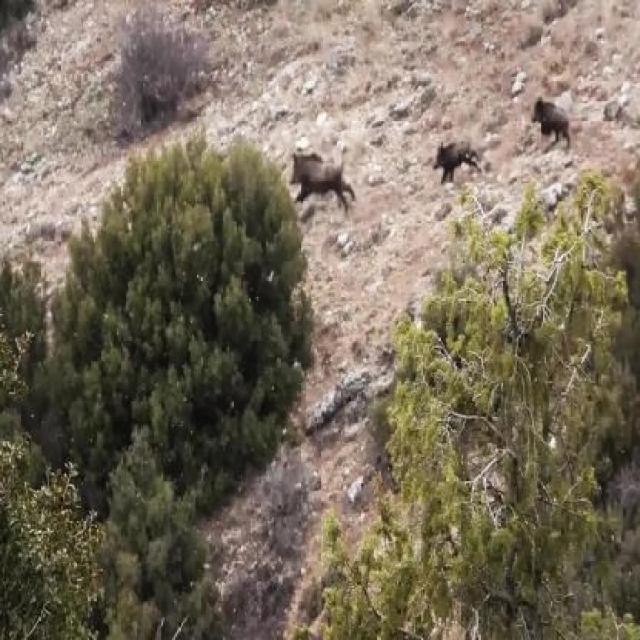pig: (286, 115, 368, 228), (523, 78, 584, 170), (426, 113, 475, 220)
